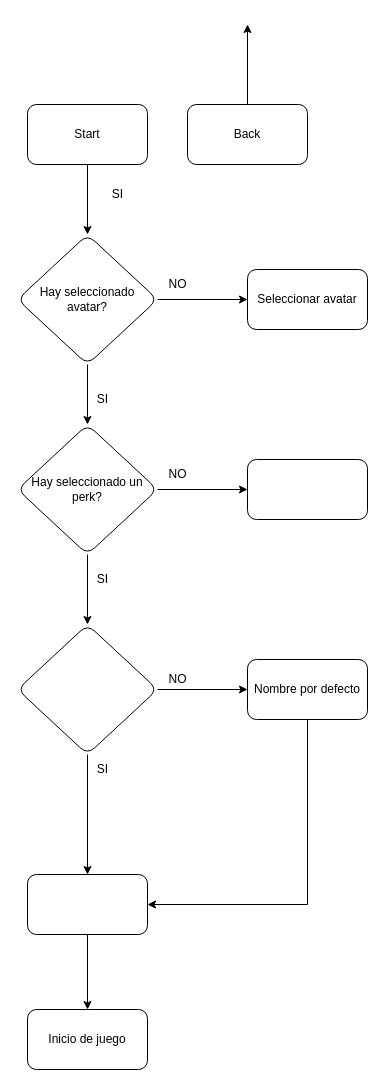
The diagram is 385 pixels wide and 1087 high, and some of its shapes have lost their labels. The box of each missing label's shape, as (x1, y1, x2, y2) in pixels:
Hay selecionado un nombre?: (16, 624, 158, 754)
Se crea la clase héroe: (26, 874, 148, 934)
Seleccionar Perk: (246, 458, 368, 520)
